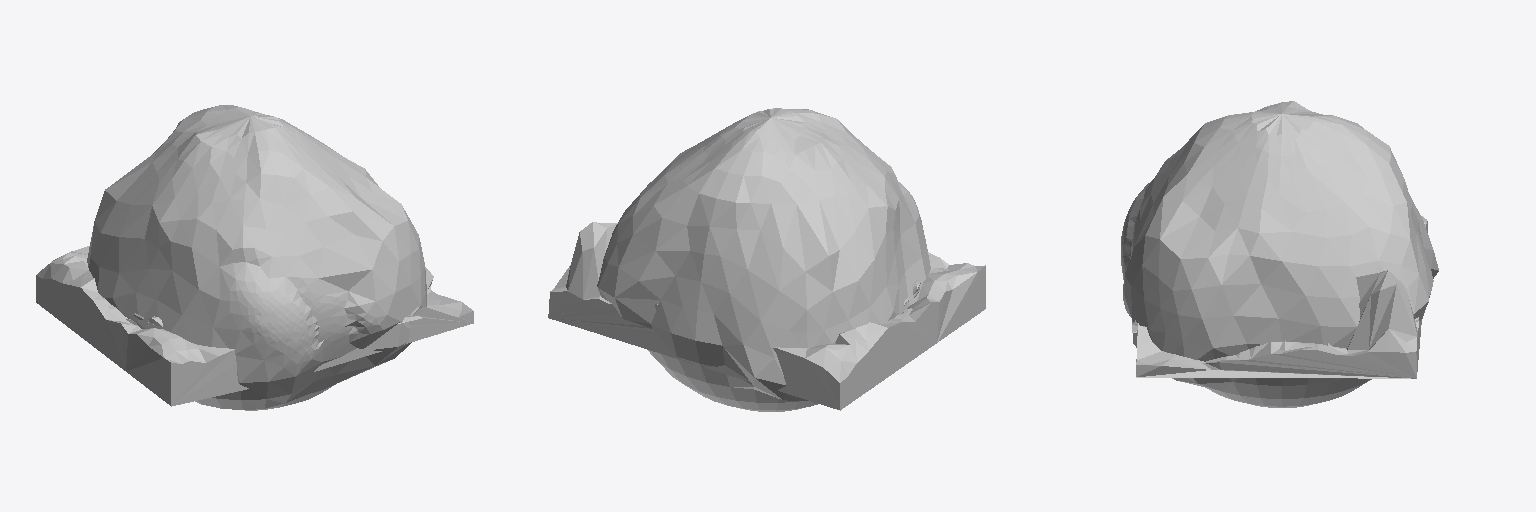
Rendered from vagamon final.obj.
3 renders of one model, left to right at view 1: azimuth 30°, elevation 25°; view 2: azimuth 150°, elevation 25°; view 3: azimuth 270°, elevation 25°, orthographic.
Parts seen in each view (by area): view 1: Sky_Sphere, Vagamon_terrain_EXPORT_GOOGLE_SAT_WM; view 2: Sky_Sphere, Vagamon_terrain_EXPORT_GOOGLE_SAT_WM; view 3: Sky_Sphere, Vagamon_terrain_EXPORT_GOOGLE_SAT_WM.
Boxes of the visible parts, x1,y1,x2,y2 form: Sky_Sphere: [87, 105, 426, 410]; Vagamon_terrain_EXPORT_GOOGLE_SAT_WM: [36, 246, 473, 406]; Sky_Sphere: [597, 108, 930, 411]; Vagamon_terrain_EXPORT_GOOGLE_SAT_WM: [548, 222, 985, 410]; Sky_Sphere: [1121, 101, 1438, 407]; Vagamon_terrain_EXPORT_GOOGLE_SAT_WM: [1136, 216, 1427, 378].
Size of the model in its own units: 0.9238 by 0.8175 by 0.8426.